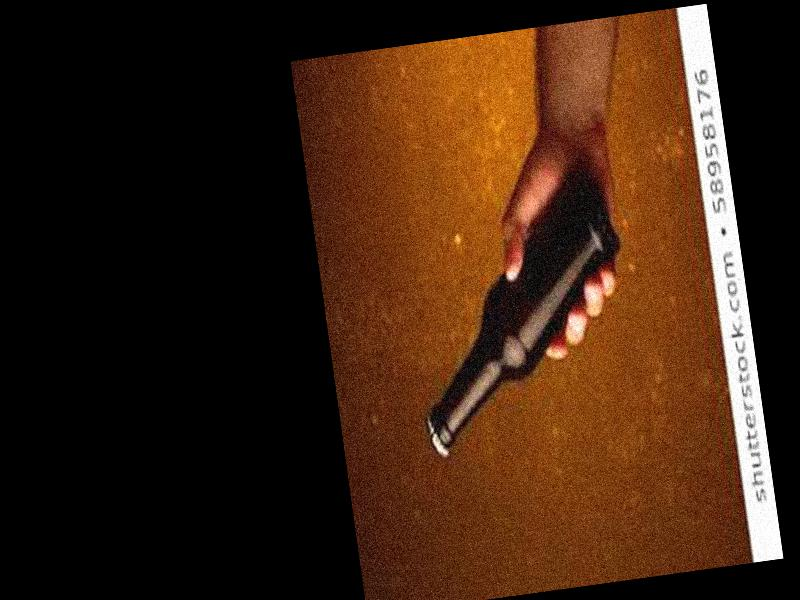Beer: (392, 155, 645, 462)
